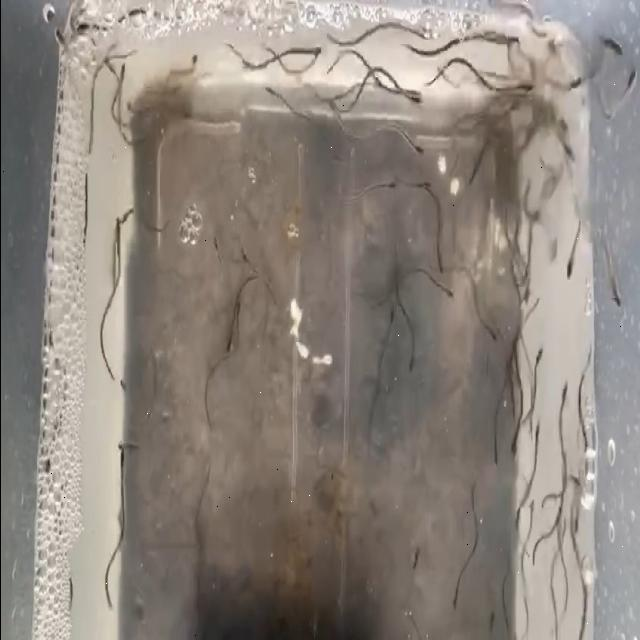inactive_glass_eel: (208, 222, 232, 303), (530, 328, 550, 412), (370, 166, 402, 210), (172, 50, 198, 96), (490, 24, 517, 68), (384, 283, 404, 339), (239, 238, 259, 292), (618, 67, 640, 109), (216, 337, 242, 372), (438, 582, 468, 612), (516, 68, 537, 110), (43, 29, 66, 67), (474, 320, 501, 352), (441, 276, 458, 326), (504, 428, 524, 470), (298, 34, 320, 72), (108, 46, 125, 94), (404, 80, 428, 113), (606, 285, 622, 331), (554, 377, 576, 410), (486, 434, 506, 470), (402, 346, 420, 384), (604, 25, 624, 59), (427, 245, 447, 278), (410, 138, 432, 166), (557, 138, 572, 176), (112, 216, 122, 270), (118, 442, 126, 492), (116, 56, 128, 88), (556, 262, 568, 292), (562, 254, 574, 284), (408, 552, 422, 572)
